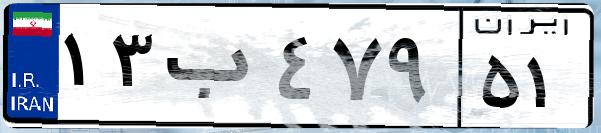1: (57, 26, 110, 100), (525, 38, 570, 115)
3: (110, 28, 158, 98)
4: (270, 28, 330, 110)
5: (475, 38, 525, 113)
7: (330, 28, 385, 110)
9: (385, 28, 445, 110)
ب: (158, 20, 270, 120)
